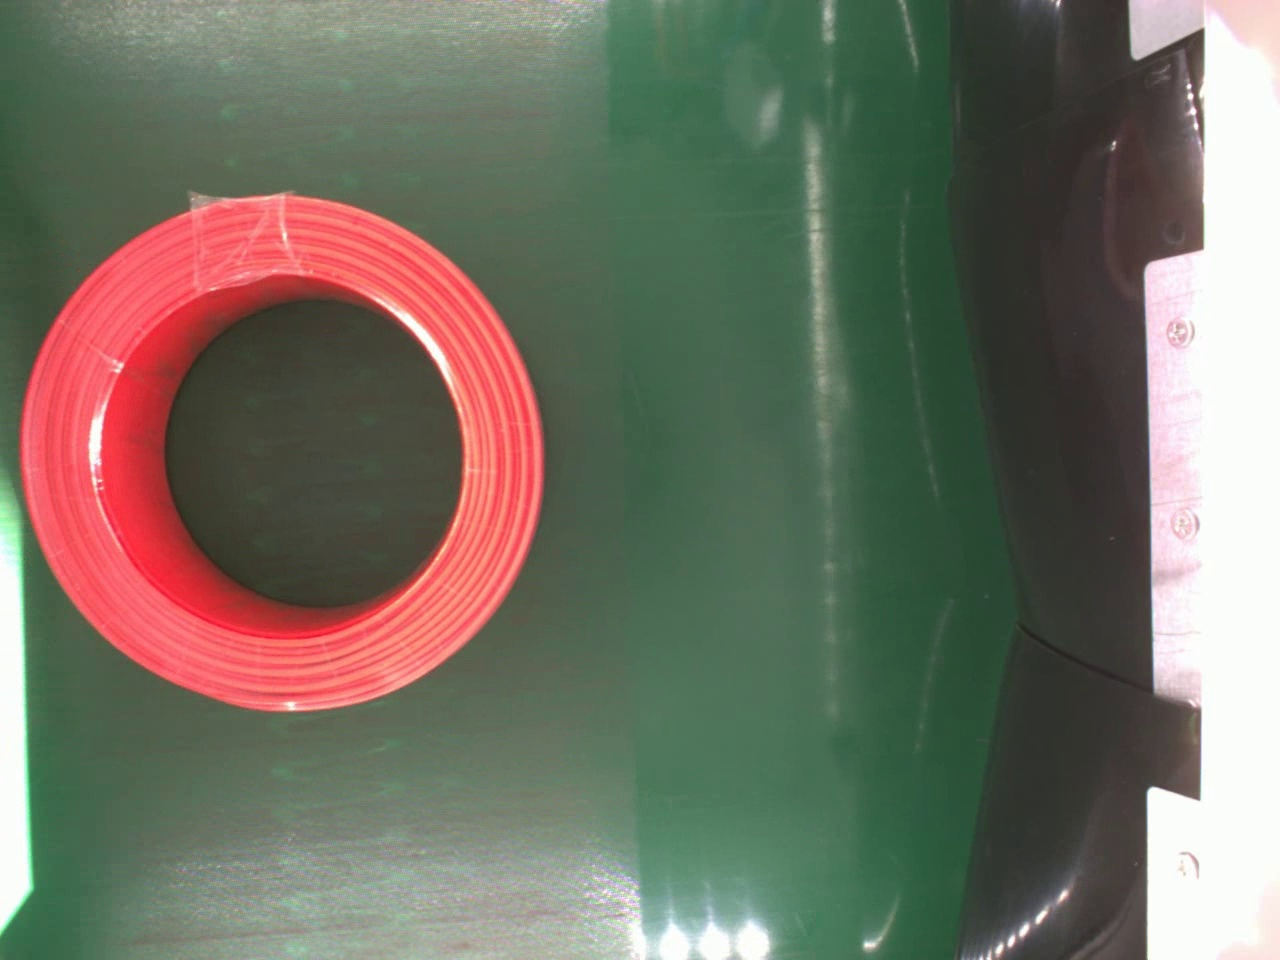red: (10, 187, 548, 713)
